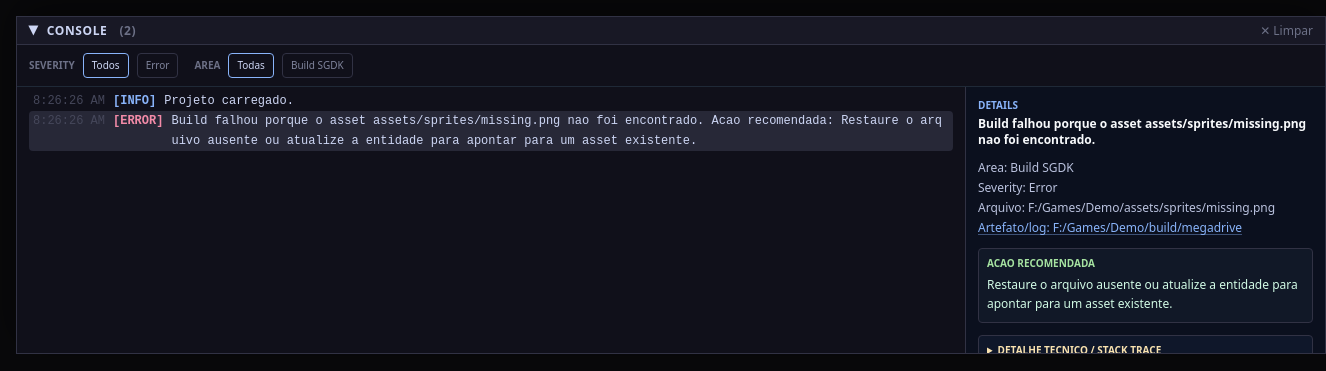
Test case: Console actionable diagnostics › hides non-diagnostic entries when severity filter is active
Click the button "Error".
click(158, 66)  # box [137,53,178,78]
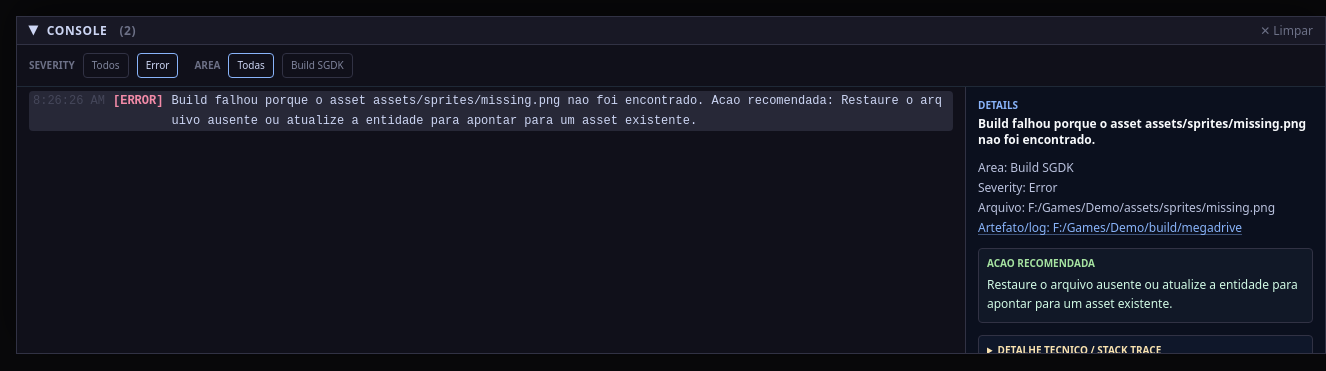
Expected: the text "Build falhou porque" is shown, [171,94,942,128]
Now the text "Projeto carregado." is gone
